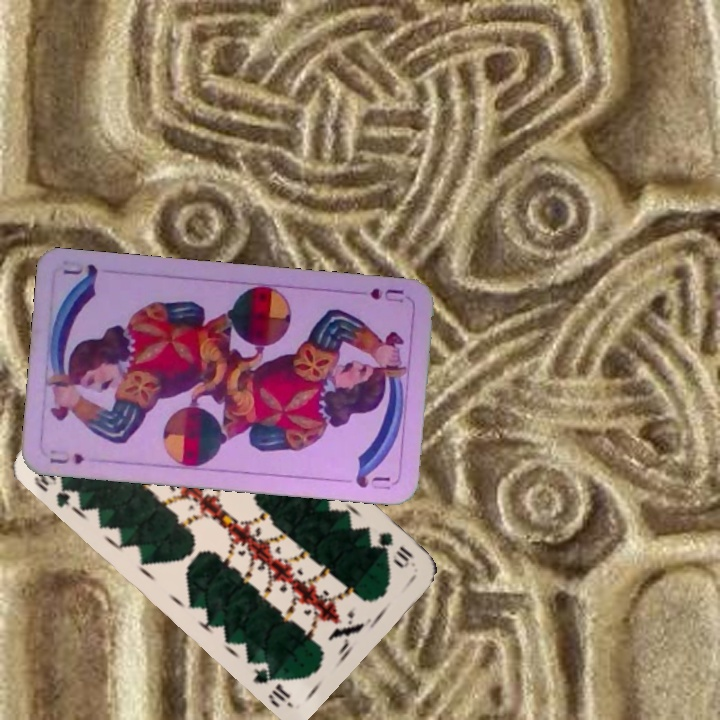G10: (30, 465, 76, 510), (374, 528, 417, 571)
SU: (350, 284, 407, 305), (45, 449, 87, 467)
